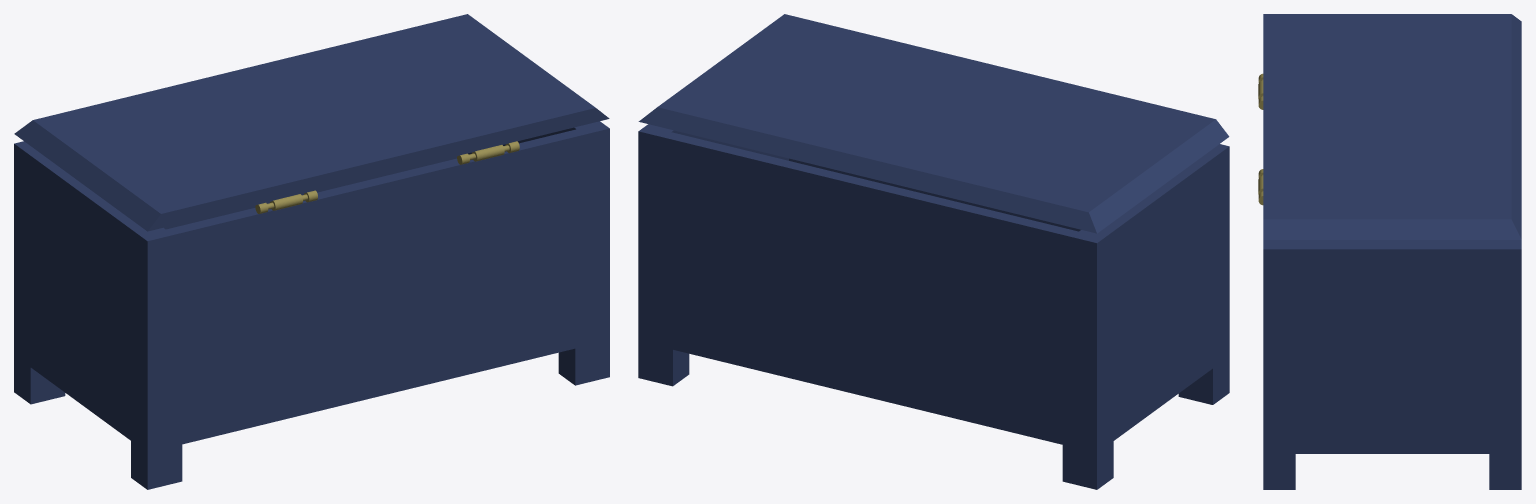
Rendered from baul.fbx.
The picture shows the model from 3 angles, left to right: view 1: azimuth 30°, elevation 25°; view 2: azimuth 150°, elevation 25°; view 3: azimuth 270°, elevation 25°; orthographic projection. The views are drawn at different scales.
Visible parts, largest first — view 1: Cubo; view 2: Cubo; view 3: Cubo.
Boxes of the visible parts, x1=… form: Cubo: x1=14, y1=14, x2=609, y2=489; Cubo: x1=638, y1=14, x2=1229, y2=489; Cubo: x1=1258, y1=14, x2=1521, y2=489.
Bounding box in the file's own units: 400 × 225 × 204.
